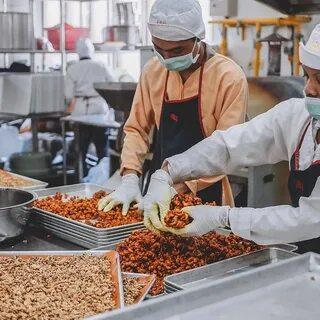hairnet: (144, 0, 219, 49), (292, 18, 320, 71)
mask: (153, 31, 195, 83), (302, 89, 320, 135)
